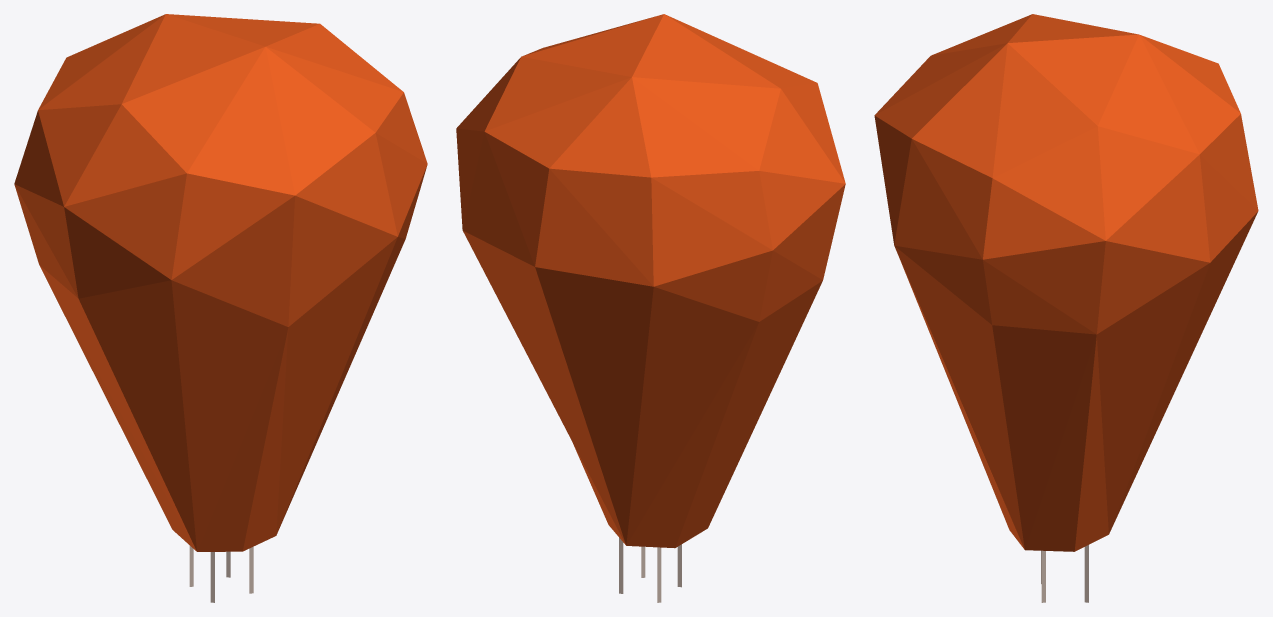
Rendered from BalloonTop_03.fbx.
3 renders of one model, left to right at view 1: azimuth 30°, elevation 25°; view 2: azimuth 150°, elevation 25°; view 3: azimuth 270°, elevation 25°, orthographic.
Parts seen in each view (by area): view 1: BalloonTop_03; view 2: BalloonTop_03; view 3: BalloonTop_03.
Boxes of the visible parts, x1,y1,x2,y2 form: BalloonTop_03: [14, 14, 427, 602]; BalloonTop_03: [456, 14, 845, 602]; BalloonTop_03: [874, 14, 1258, 602].
Bounding box in the file's own units: 40.75 × 61.46 × 38.39.
